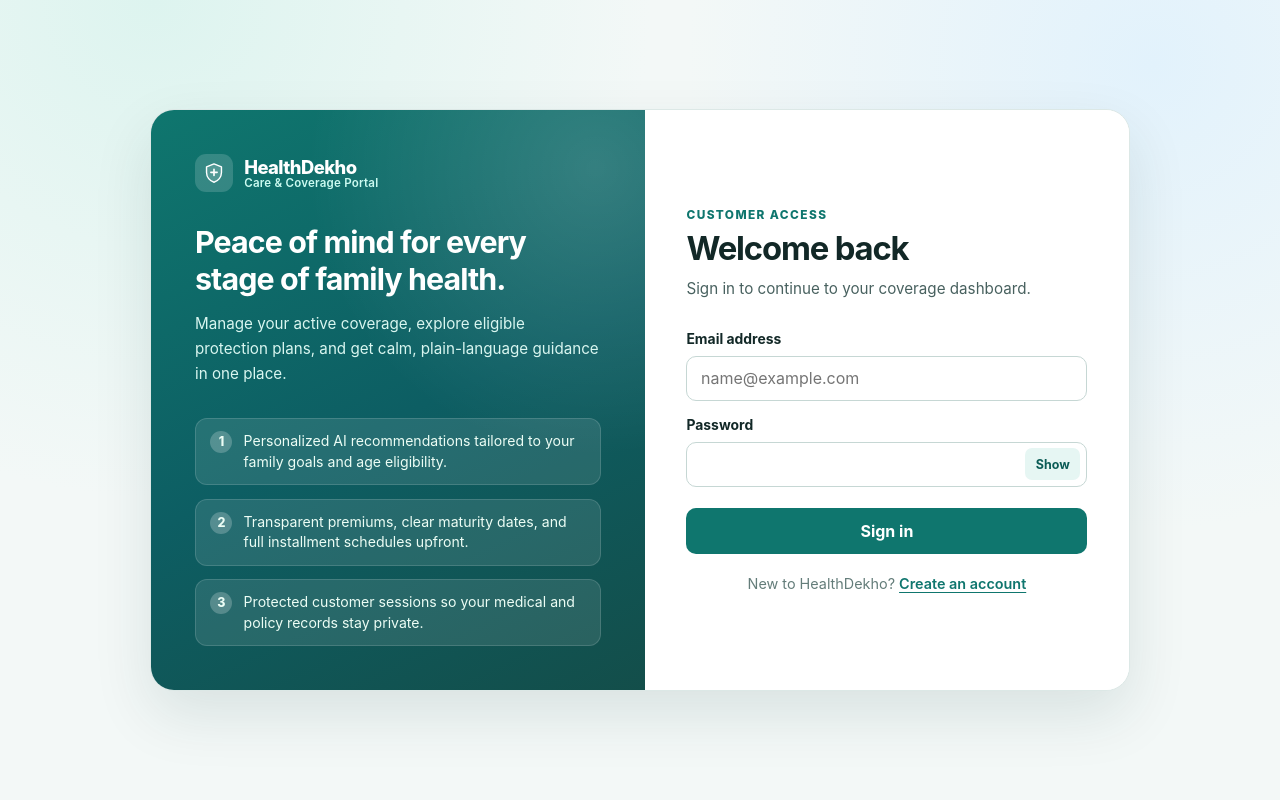
Test case: FR-1, FR-2 & FR-3 authentication, dashboard, recommendations, and policy registration flow › shows a generic credential failure without creating a session
In the field labelled "Email address": (887, 378) left=686, top=356, right=1087, bottom=401, type "asha@example.test"
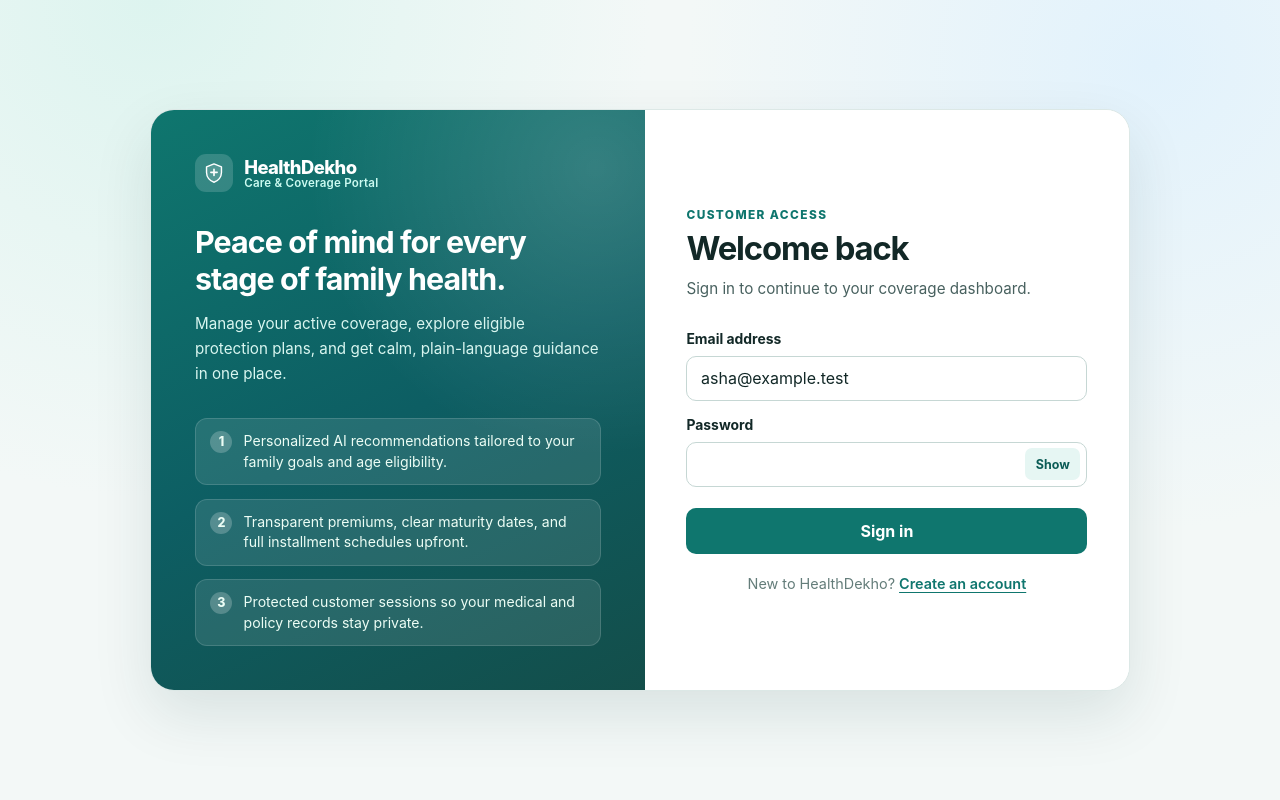
In the password field labelled "Password": (887, 464) left=686, top=442, right=1087, bottom=487, type "invalid password"
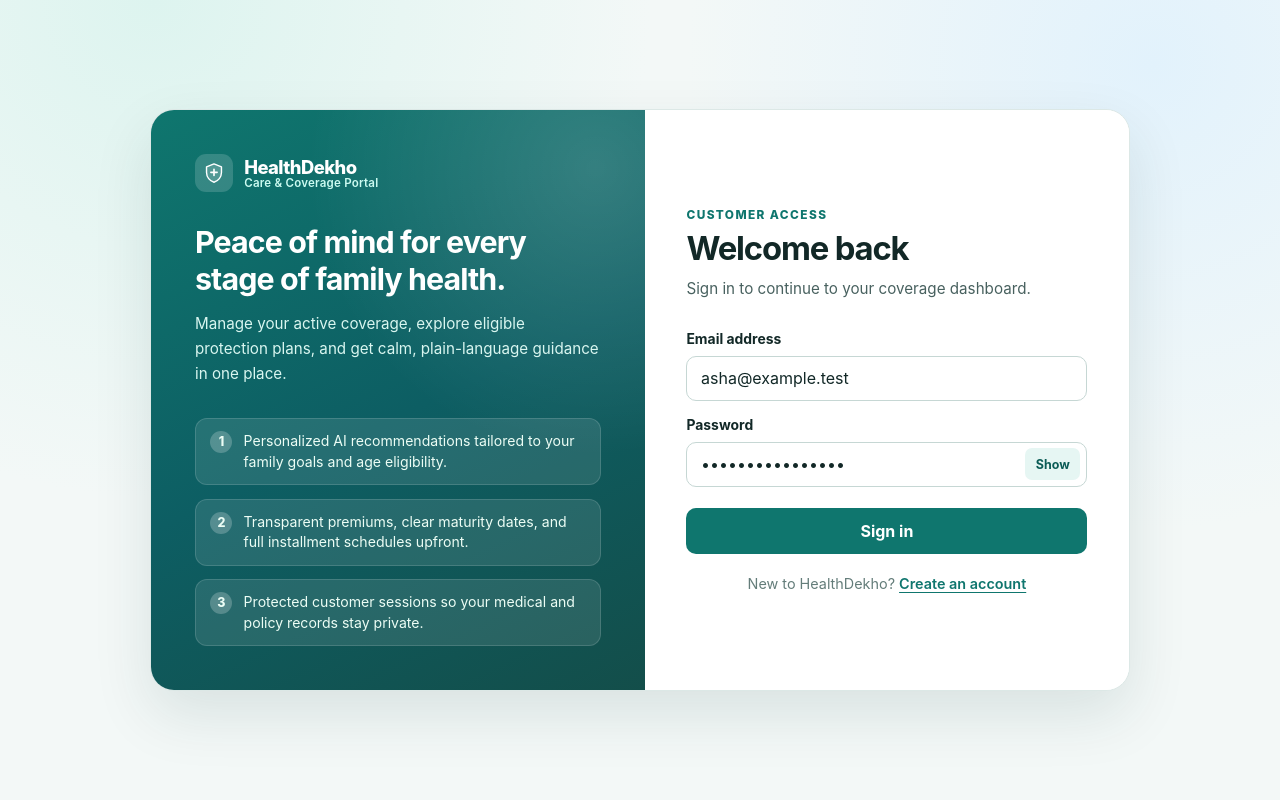
Click the button "Sign in": (887, 531) left=686, top=508, right=1087, bottom=554
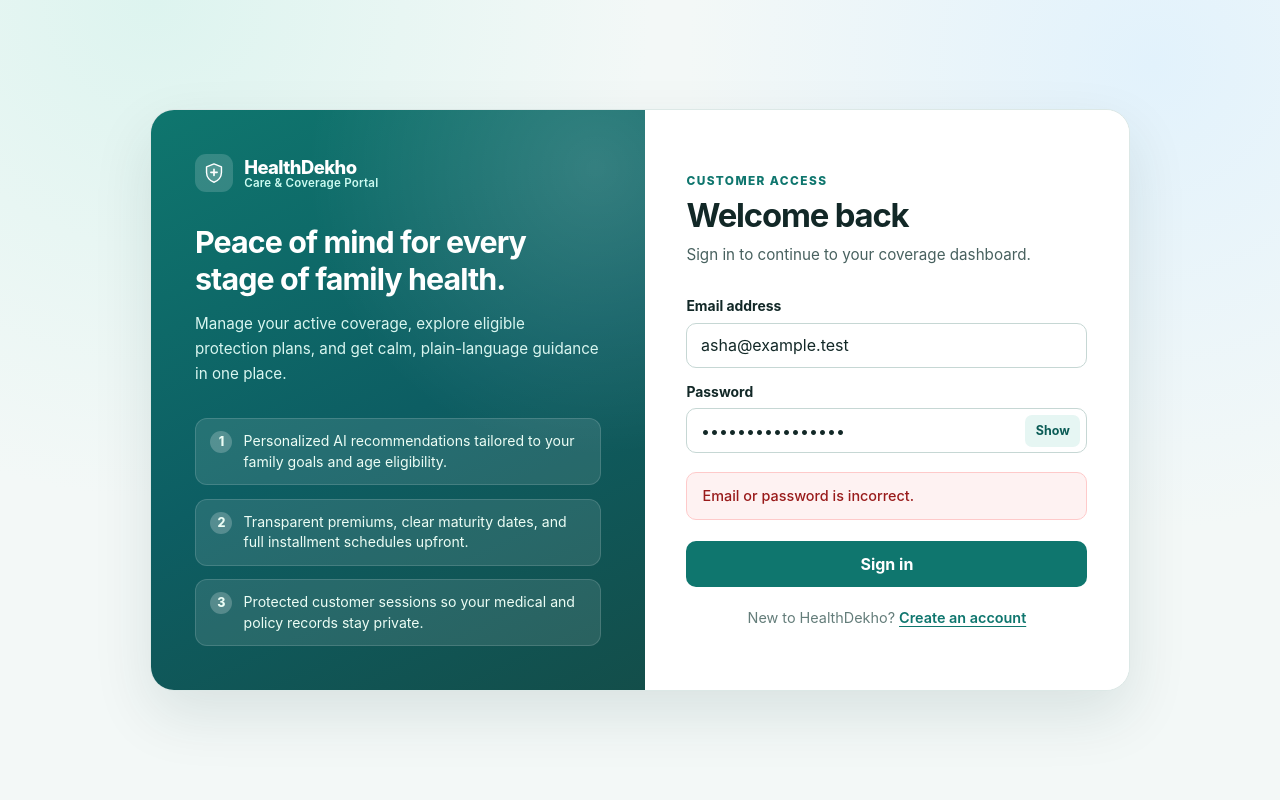
Now the message reads "Email or password is incorrect.", box left=703, top=486, right=914, bottom=504
